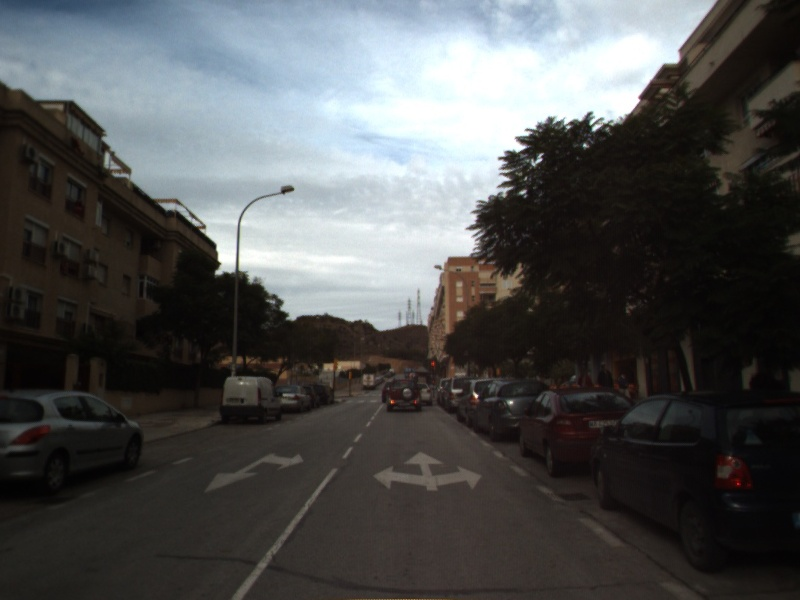STRAIGHT_LEFT_RIGHT: (371, 449, 484, 493)
